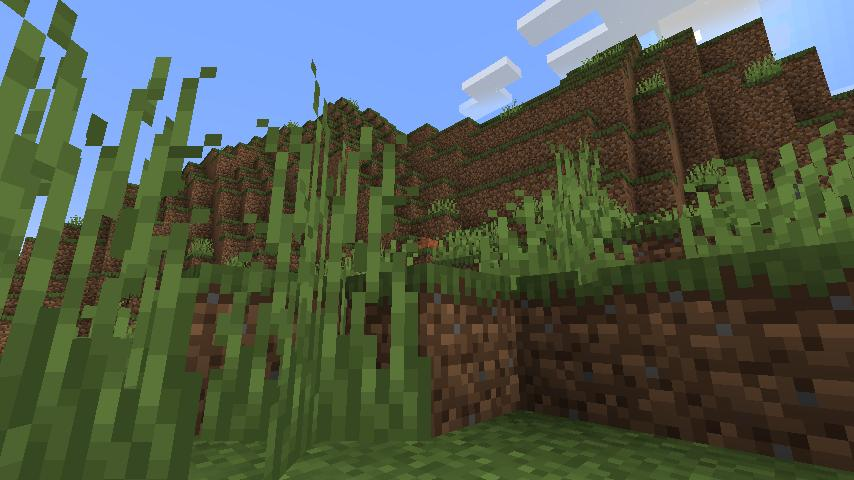frog: (415, 235, 442, 251)
